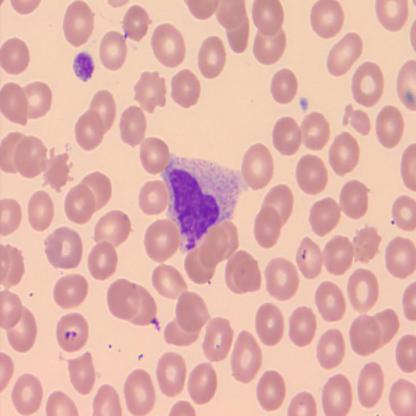Metamyelocyte: (156, 151, 248, 256)
